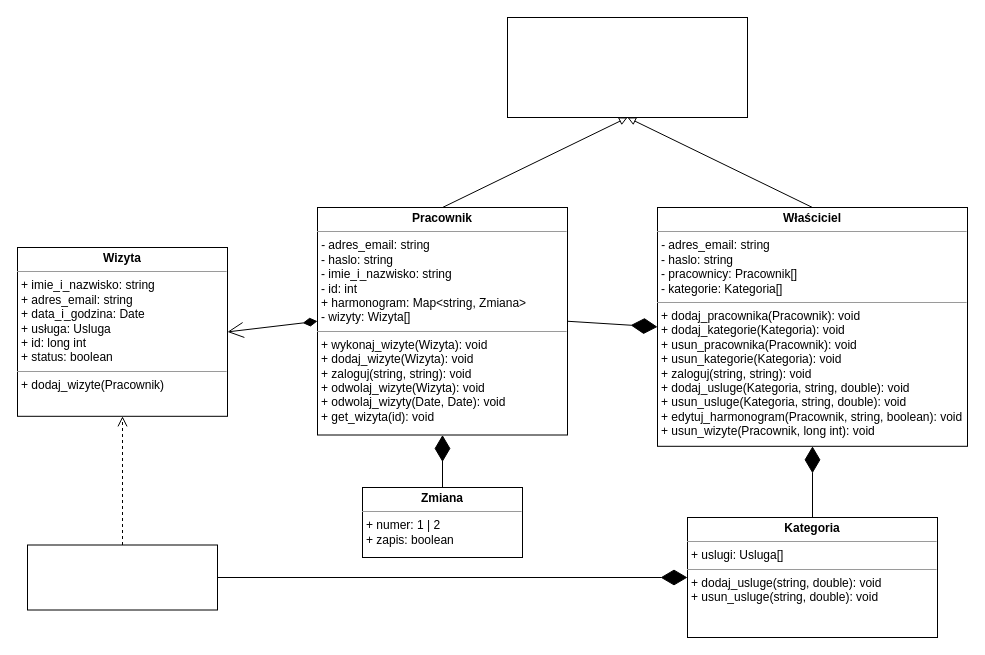
Some shapes in this 985 by 655 pixel diagram are drawn without their labels. The box of each missing label's shape, as (x1, y1, x2, y2) in pixels:
Usluga + nazwa: string + cena: double: (26, 544, 218, 610)
Użytkownik - adres_email: string - haslo: string + zaloguj(string, string): void: (506, 16, 748, 118)
